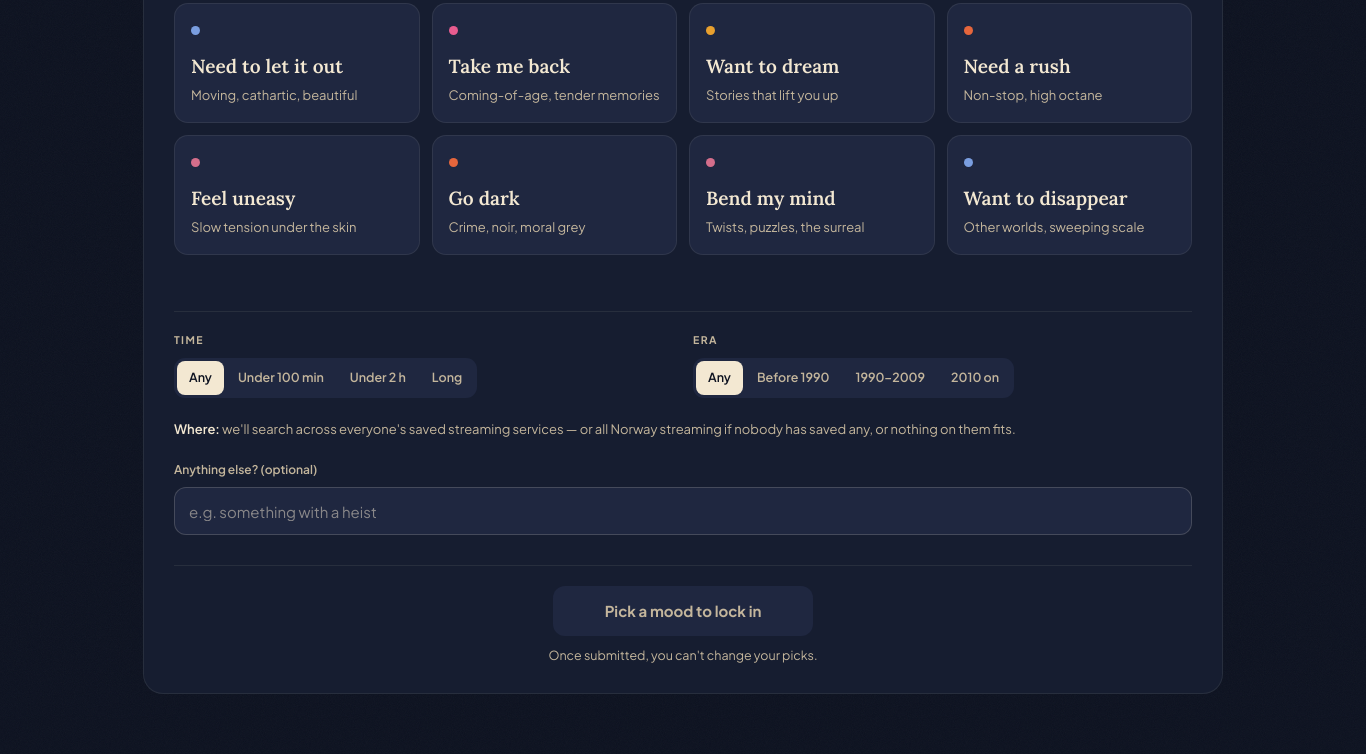
Test: Group mood page › counts picks and names the lock-in by them; with none it's blocked
(page scrolled)
Click the button "Pick a mood to lock in" at (683, 611), box [553, 586, 813, 636]
(page scrolled)
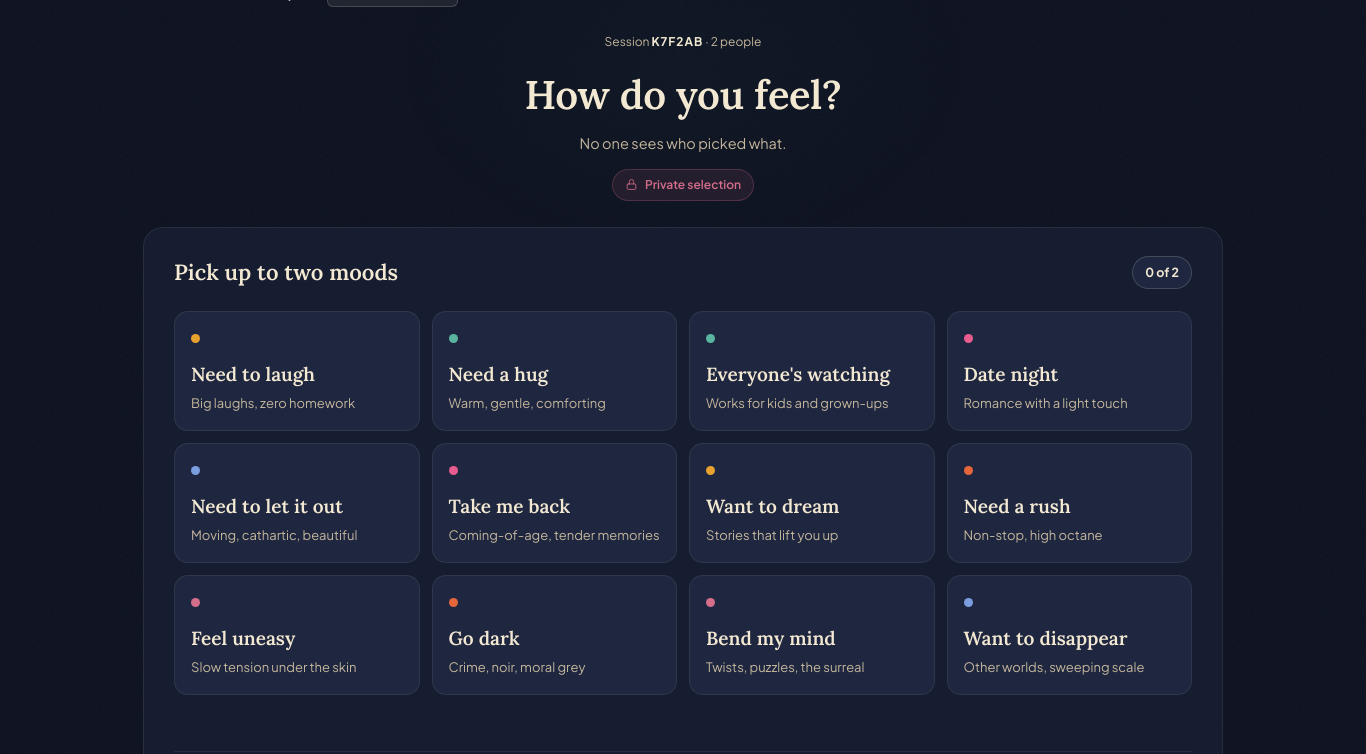
Click the button "Need to laugh Big laughs, zero homework" at (297, 371), box [174, 311, 420, 431]
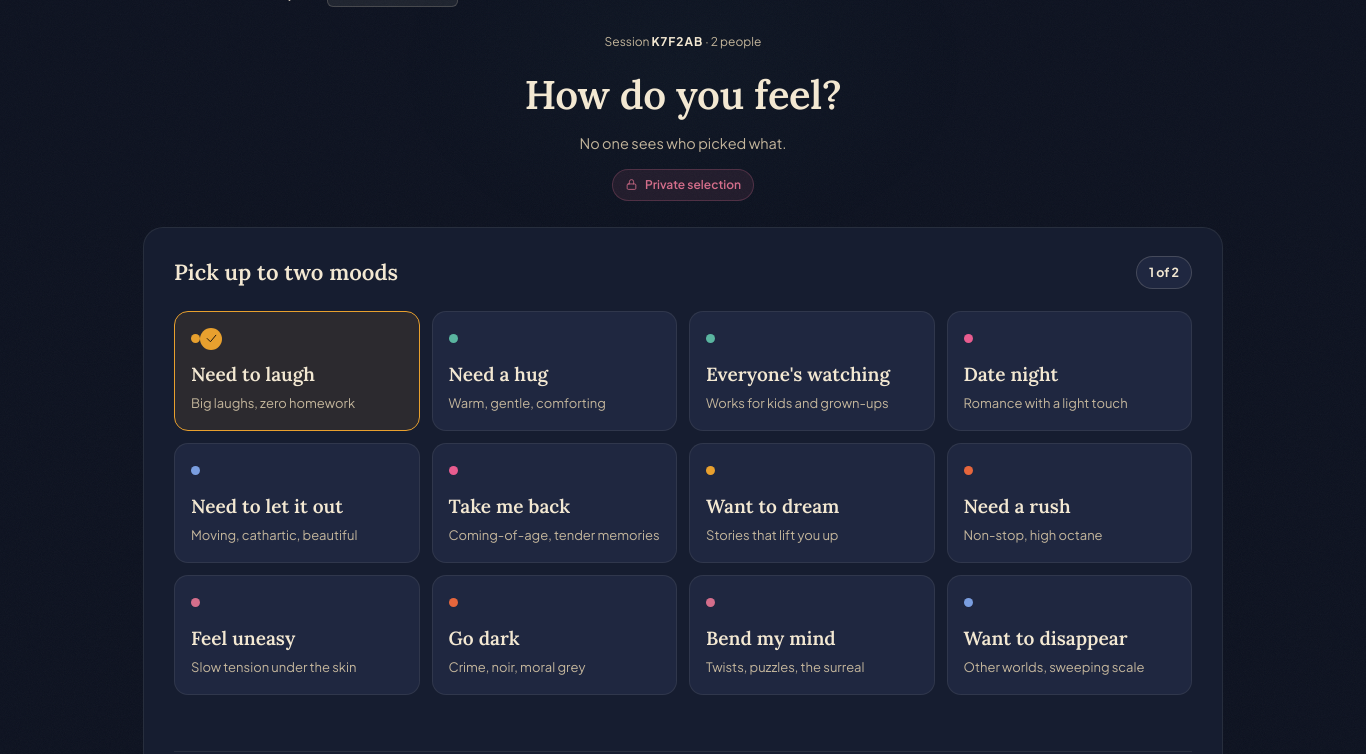
Click the button "Go dark Crime, noir, moral grey" at (554, 635), box [432, 575, 677, 695]
(page scrolled)
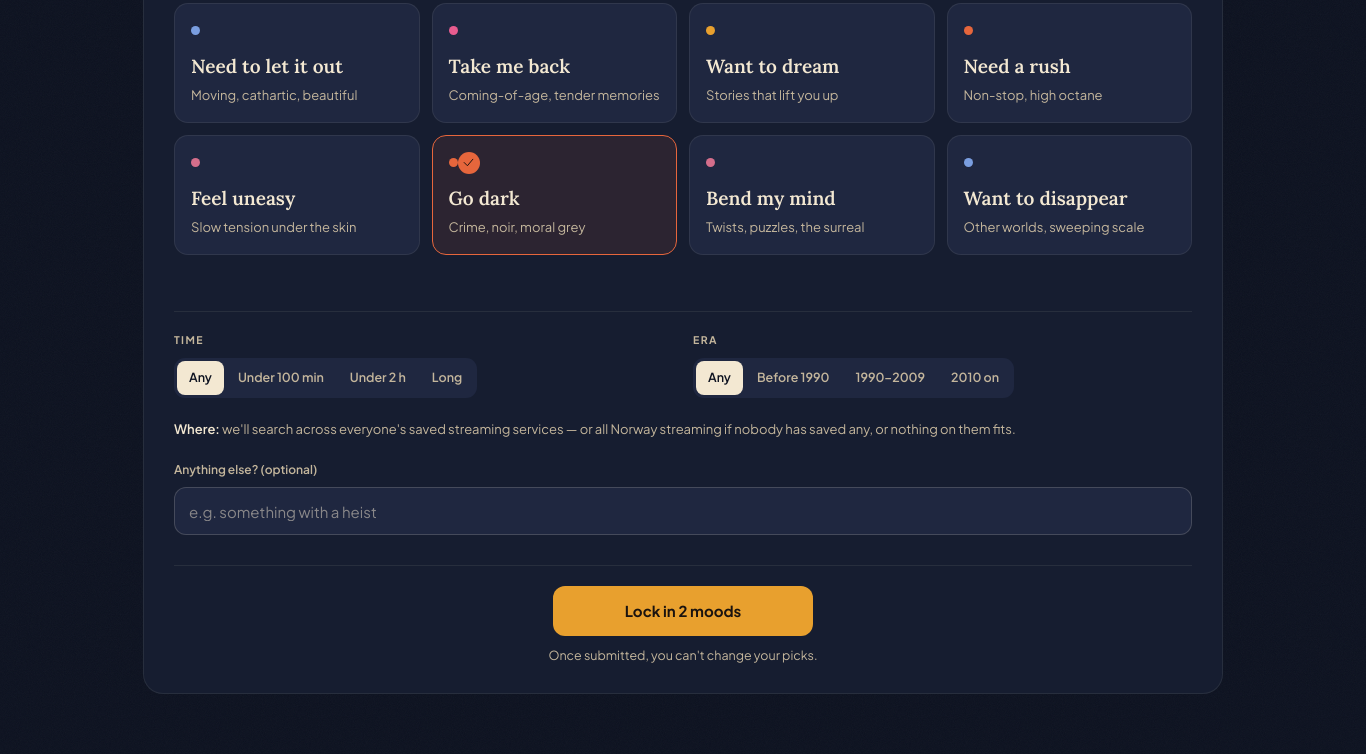
Now the button "Lock in 2 moods" is shown, box [553, 586, 813, 636]
